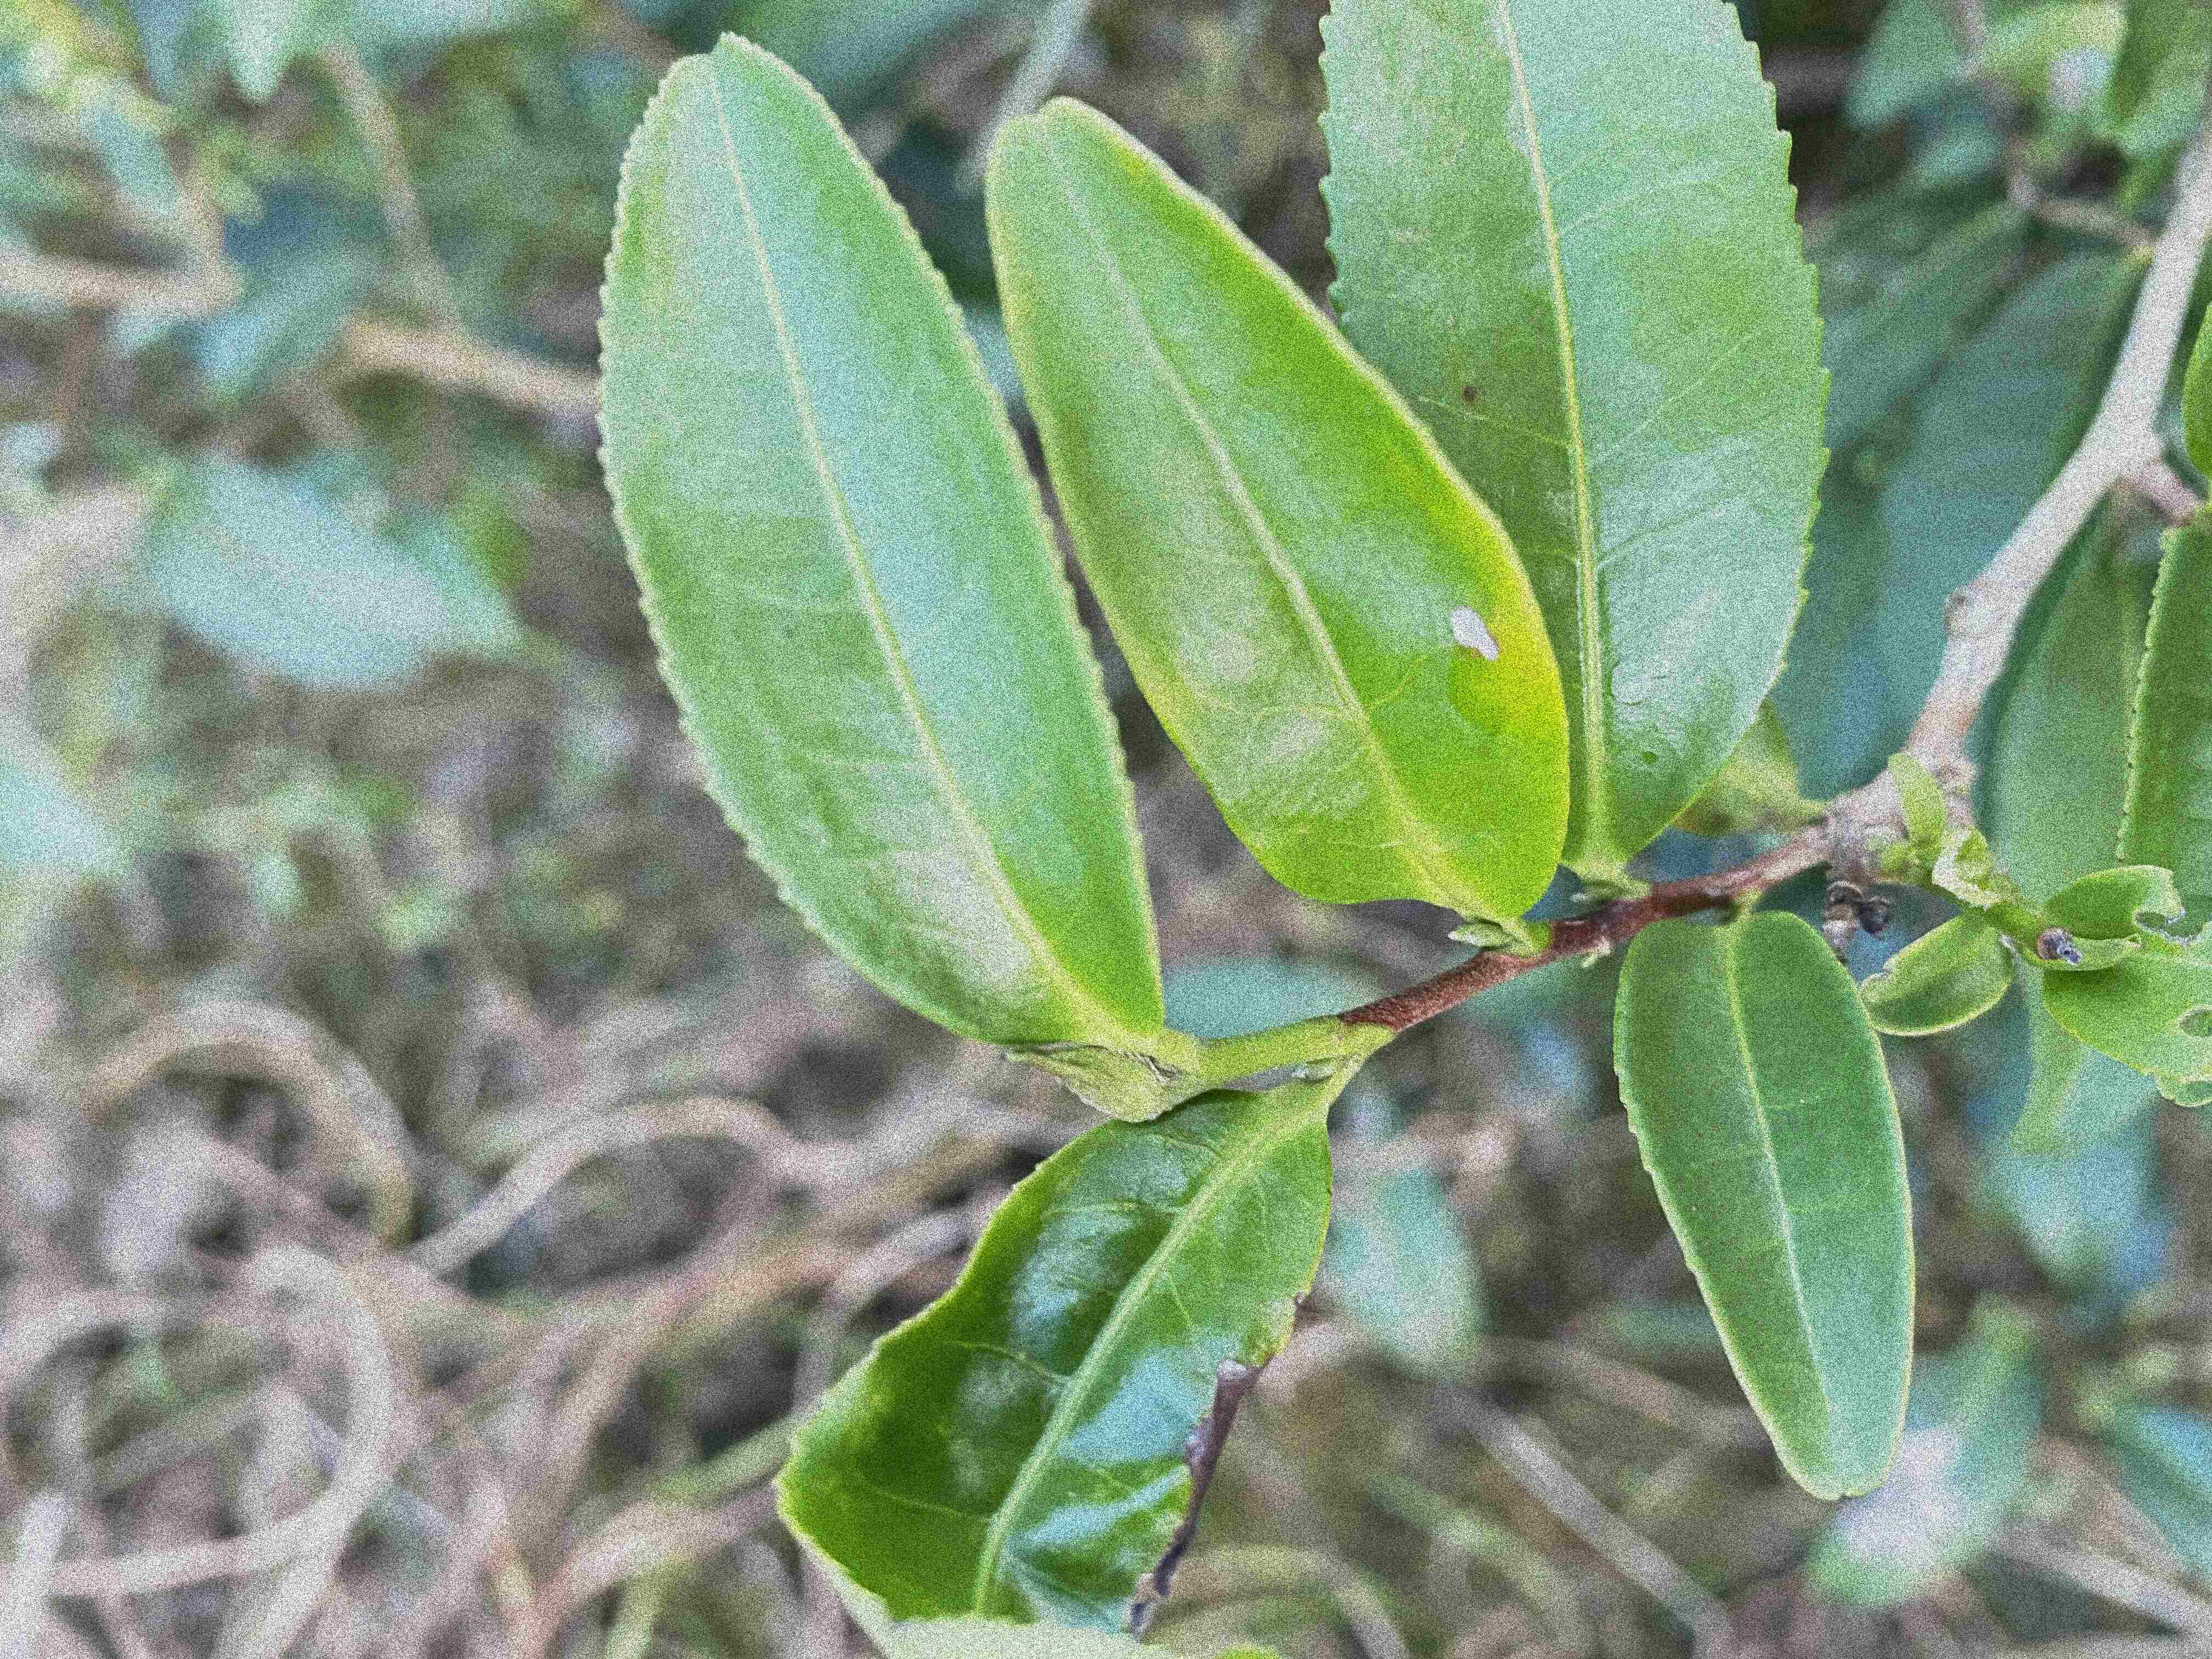chihuo_high: (2043, 863, 2212, 1084)
healthy: (590, 28, 1165, 1053), (1611, 906, 1916, 1502)
tanju_high: (768, 1084, 1338, 1654)
tanju_low: (981, 96, 1573, 922)
